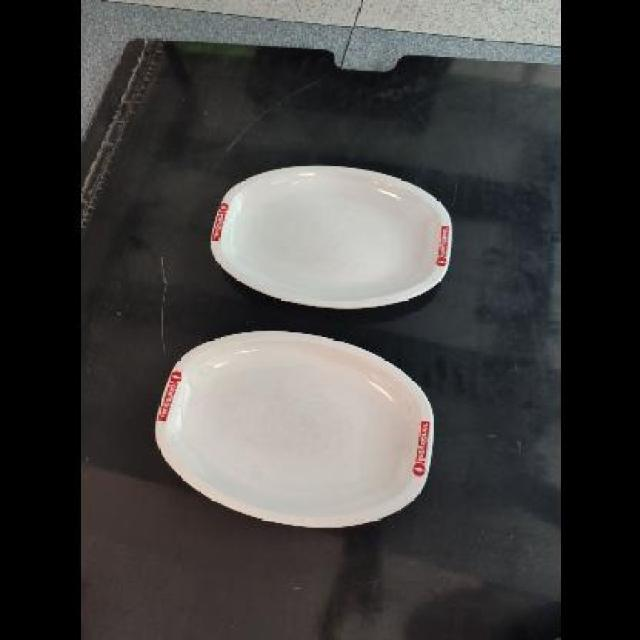plate: (157, 330, 440, 528), (210, 163, 456, 308)
